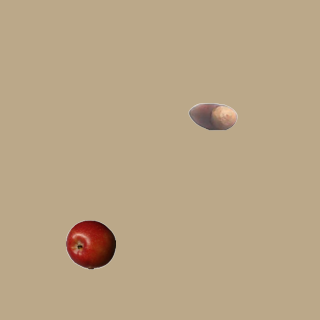Apple Braeburn: (65, 219, 115, 269)
Hazelnut: (187, 91, 237, 141)
